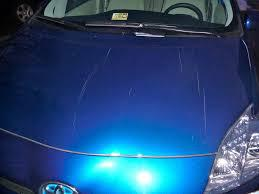bonnet-dent: (0, 24, 250, 178)
